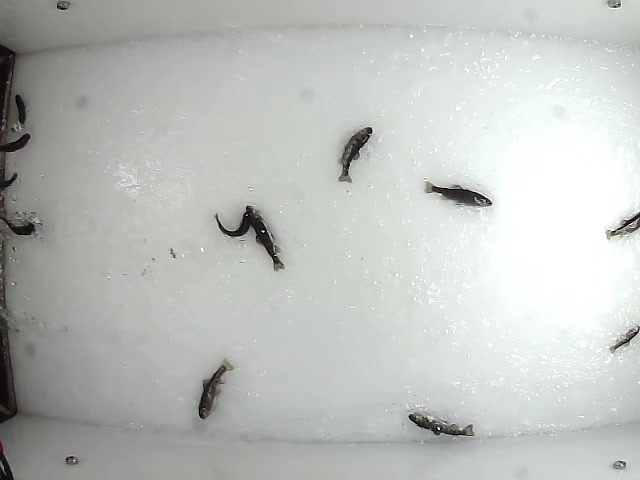fish: (245, 204, 287, 274), (195, 355, 236, 421), (336, 124, 375, 185), (422, 178, 494, 210), (406, 412, 475, 439), (212, 207, 253, 238), (4, 92, 28, 134), (608, 326, 639, 355), (1, 214, 37, 236)
